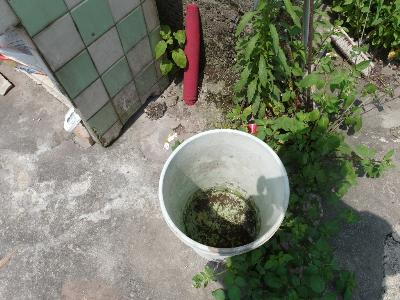bucket: (153, 127, 293, 264)
